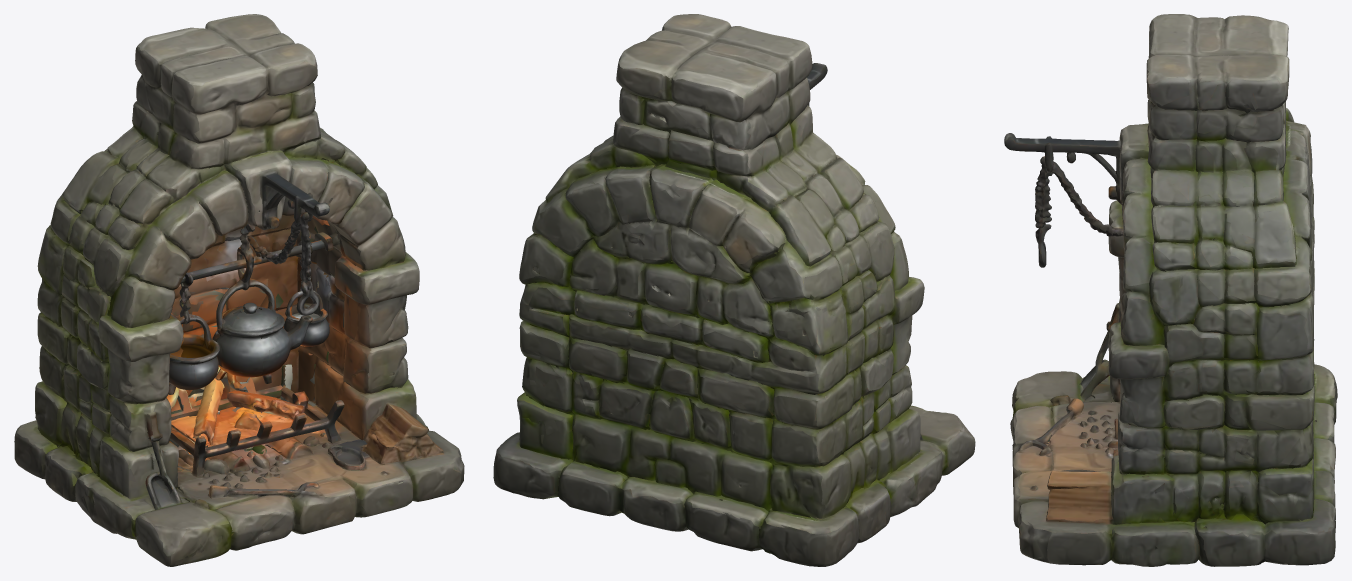
Rendered from hearth.glb.
3 views of the same model, side by side, from view 1: azimuth 30°, elevation 25°; view 2: azimuth 150°, elevation 25°; view 3: azimuth 270°, elevation 25° (orthographic). The views are drawn at different scales.
Parts seen in each view (by area): view 1: geometry_0; view 2: geometry_0; view 3: geometry_0.
Part boxes in pixels (x1=…): geometry_0: x1=14, y1=14, x2=464, y2=566; geometry_0: x1=493, y1=14, x2=975, y2=566; geometry_0: x1=1004, y1=14, x2=1337, y2=566.
Bounding box in the file's own units: 0.7326 × 0.9 × 0.6154.
Materials: 1 (1 with a texture image).
